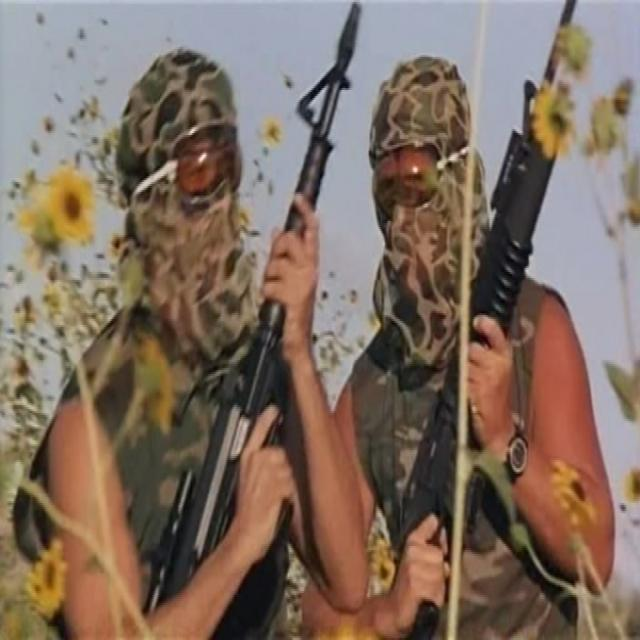rifle: (142, 3, 368, 633), (391, 1, 581, 640)
